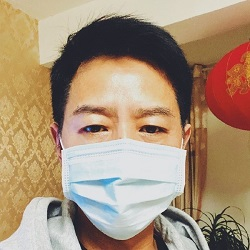mask: (54, 135, 186, 241)
